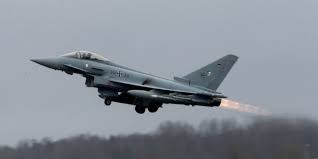fighter: (27, 48, 244, 115)
